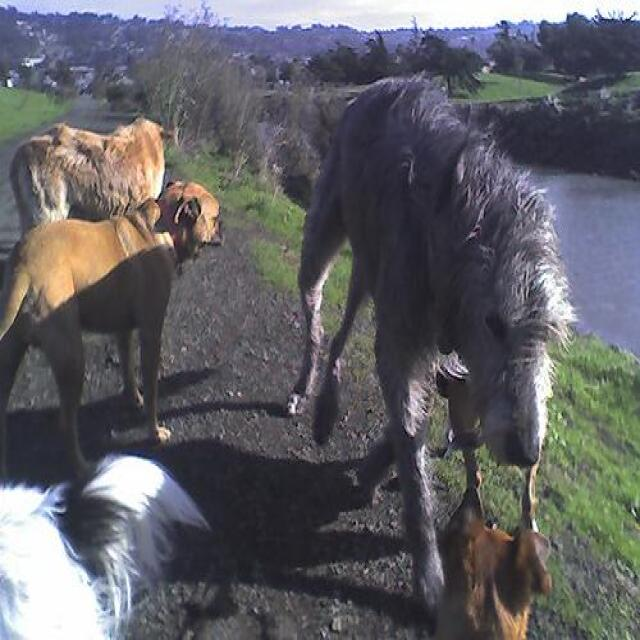irish_wolfhound: (287, 77, 576, 619)
